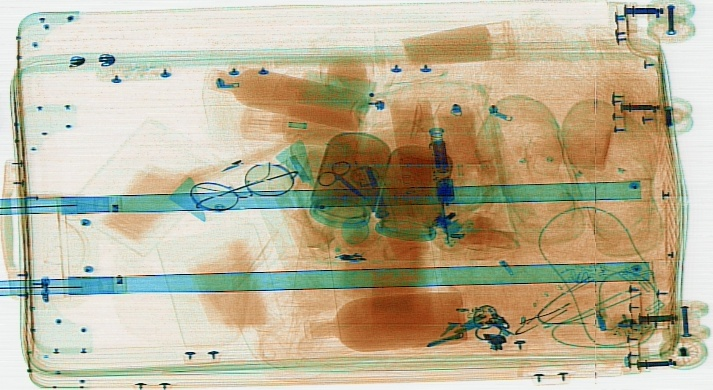scissors: (314, 157, 370, 200)
